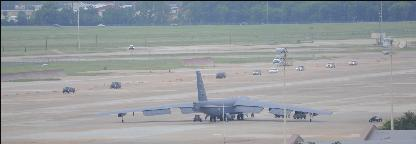B2: (93, 69, 332, 121)
